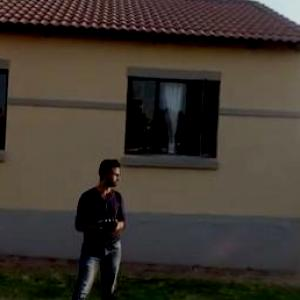follow: (61, 153, 132, 299)
